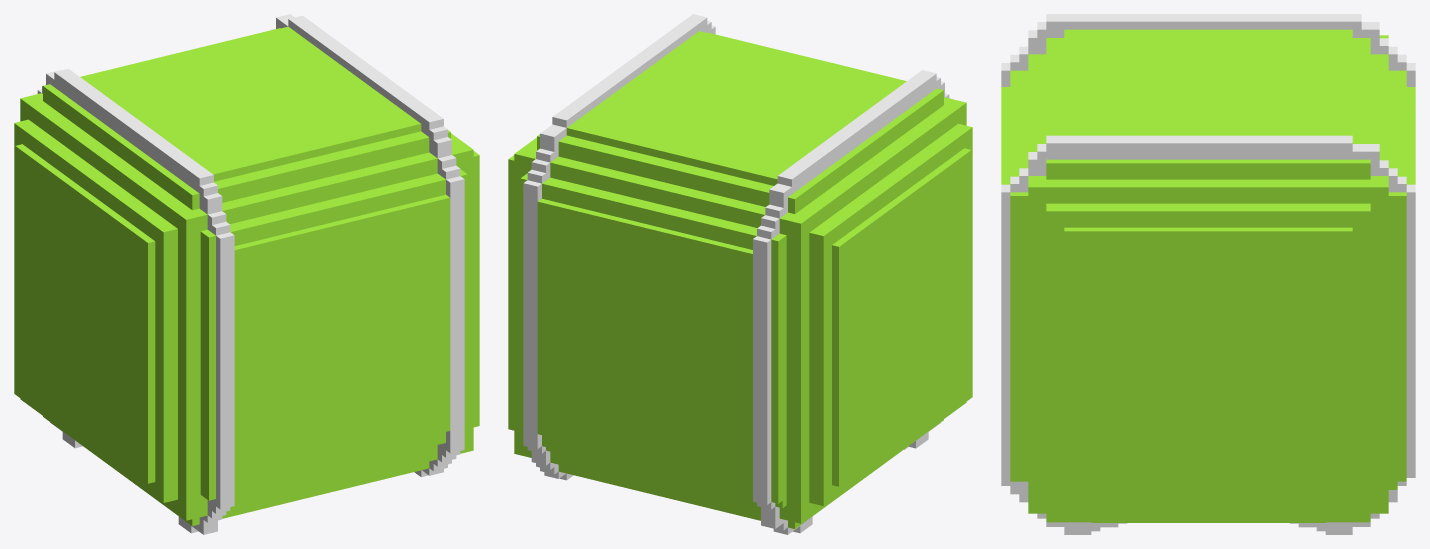
File: tennisball.FBX
The picture shows the model from 3 angles, left to right: view 1: azimuth 30°, elevation 25°; view 2: azimuth 150°, elevation 25°; view 3: azimuth 270°, elevation 25°; orthographic projection. The views are drawn at different scales.
Visible parts, largest first — view 1: tennisball; view 2: tennisball; view 3: tennisball.
Boxes of the visible parts, left/top/right/bottom form: tennisball: left=14, top=14, right=479, bottom=534; tennisball: left=508, top=14, right=972, bottom=534; tennisball: left=1001, top=14, right=1415, bottom=534.
Bounding box in the file's own units: 6.11 × 6.38 × 6.11.
Materials: 1 (1 with a texture image).
